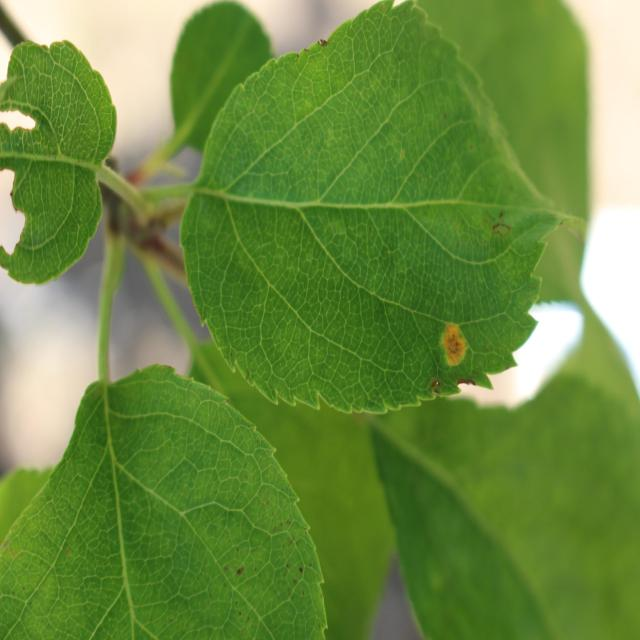Rust: (428, 324, 480, 374)
